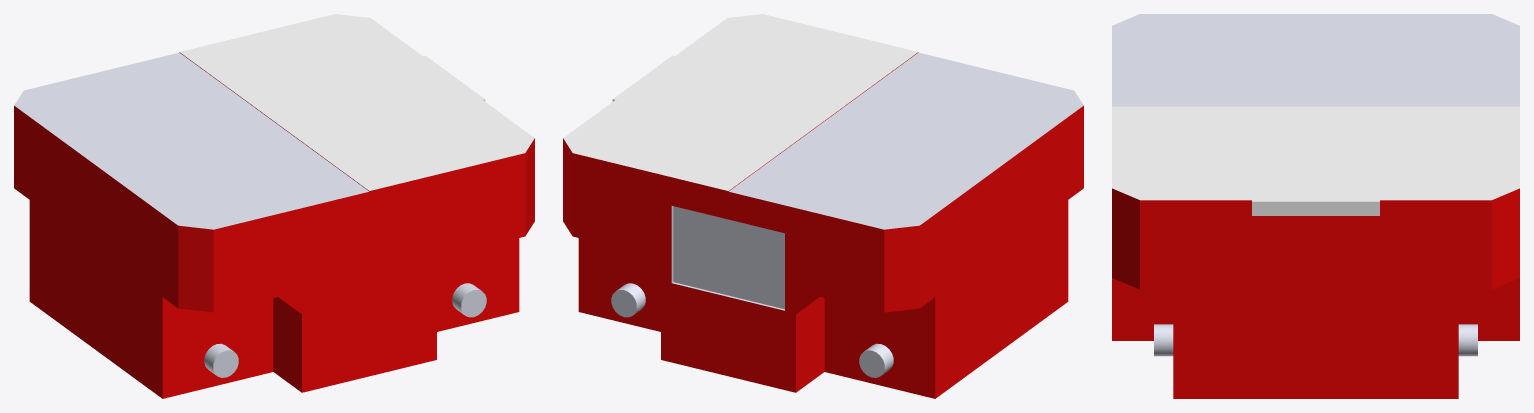
Rendered from agv.dae.
3 views of the same model, side by side, from view 1: azimuth 30°, elevation 25°; view 2: azimuth 150°, elevation 25°; view 3: azimuth 270°, elevation 25° (orthographic). The views are drawn at different scales.
Visible parts, largest first — view 1: stitch_result_stitchFBXASC032all-Pivot; view 2: stitch_result_stitchFBXASC032all-Pivot; view 3: stitch_result_stitchFBXASC032all-Pivot.
Part boxes in pixels (left/top/right/bottom): stitch_result_stitchFBXASC032all-Pivot: left=14, top=14, right=534, bottom=398; stitch_result_stitchFBXASC032all-Pivot: left=563, top=14, right=1083, bottom=398; stitch_result_stitchFBXASC032all-Pivot: left=1112, top=14, right=1519, bottom=398.
Size of the model in its own units: 0.694 by 0.636 by 0.342.
